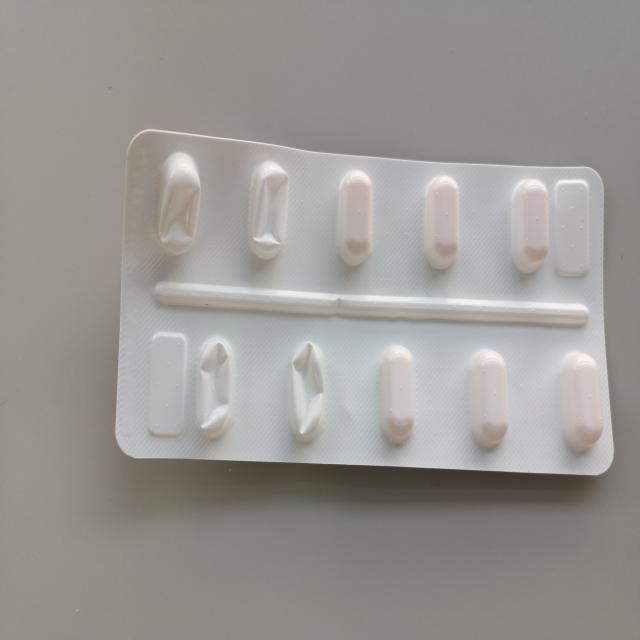Empty: (151, 144, 204, 260), (190, 327, 240, 446), (284, 332, 332, 452), (245, 152, 294, 268)
Pill: (555, 346, 605, 458), (464, 342, 514, 452), (330, 163, 378, 272), (506, 178, 556, 280), (417, 171, 465, 274), (377, 342, 420, 450)
